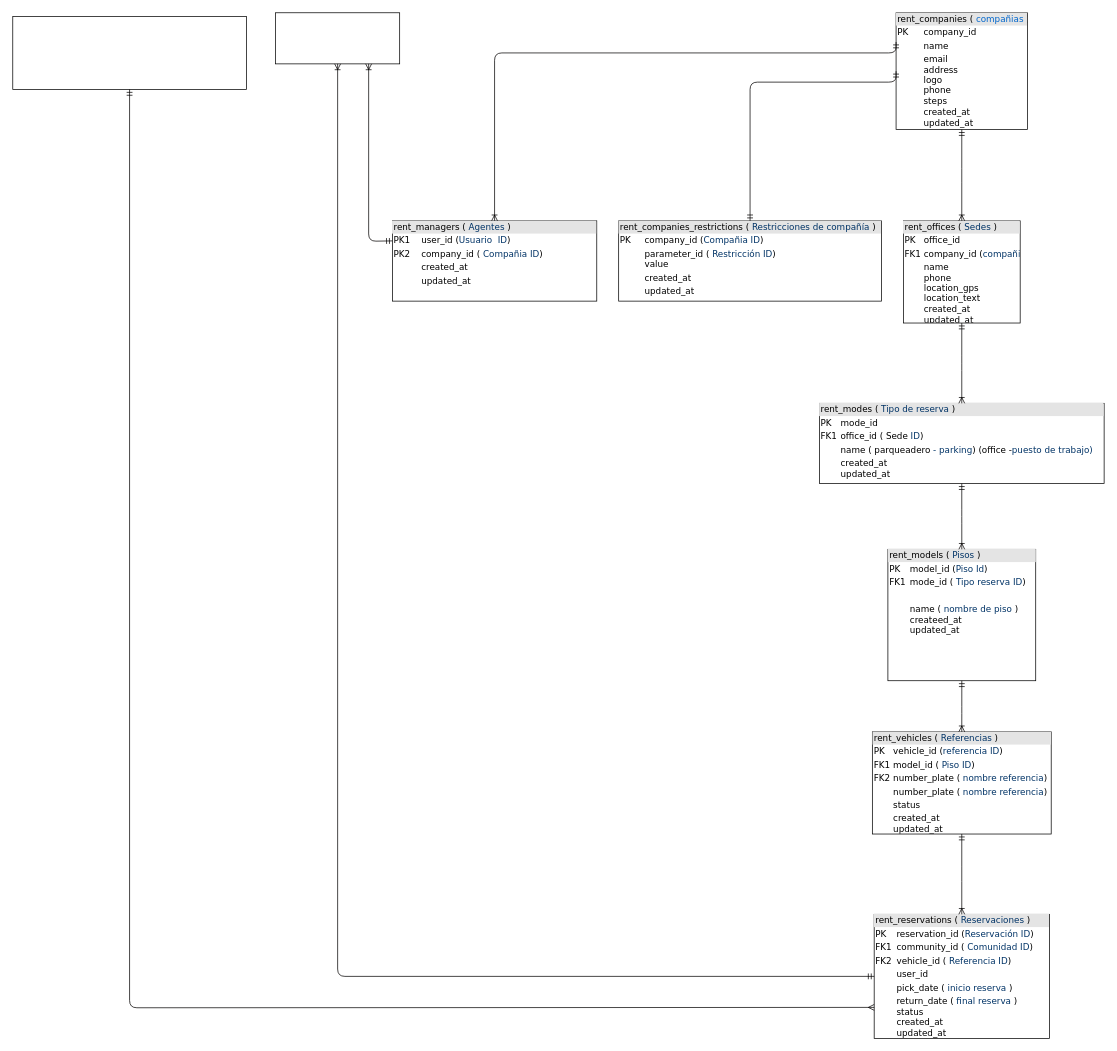
The diagram is 1117 pixels wide and 1051 high, and some of its shapes have lost their labels. The shapes that lost their labels are listed below. From the top down, each one's centre as x and y in pixels, then its label:
the point at 129,52: communities ( Comunidades ) PK id FK1 name ( compañia ID ) created_at updated_at
the point at 337,38: users PK user_id FK1
